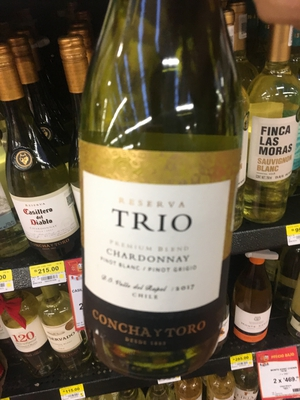trio chardonnay: (73, 10, 253, 373)
